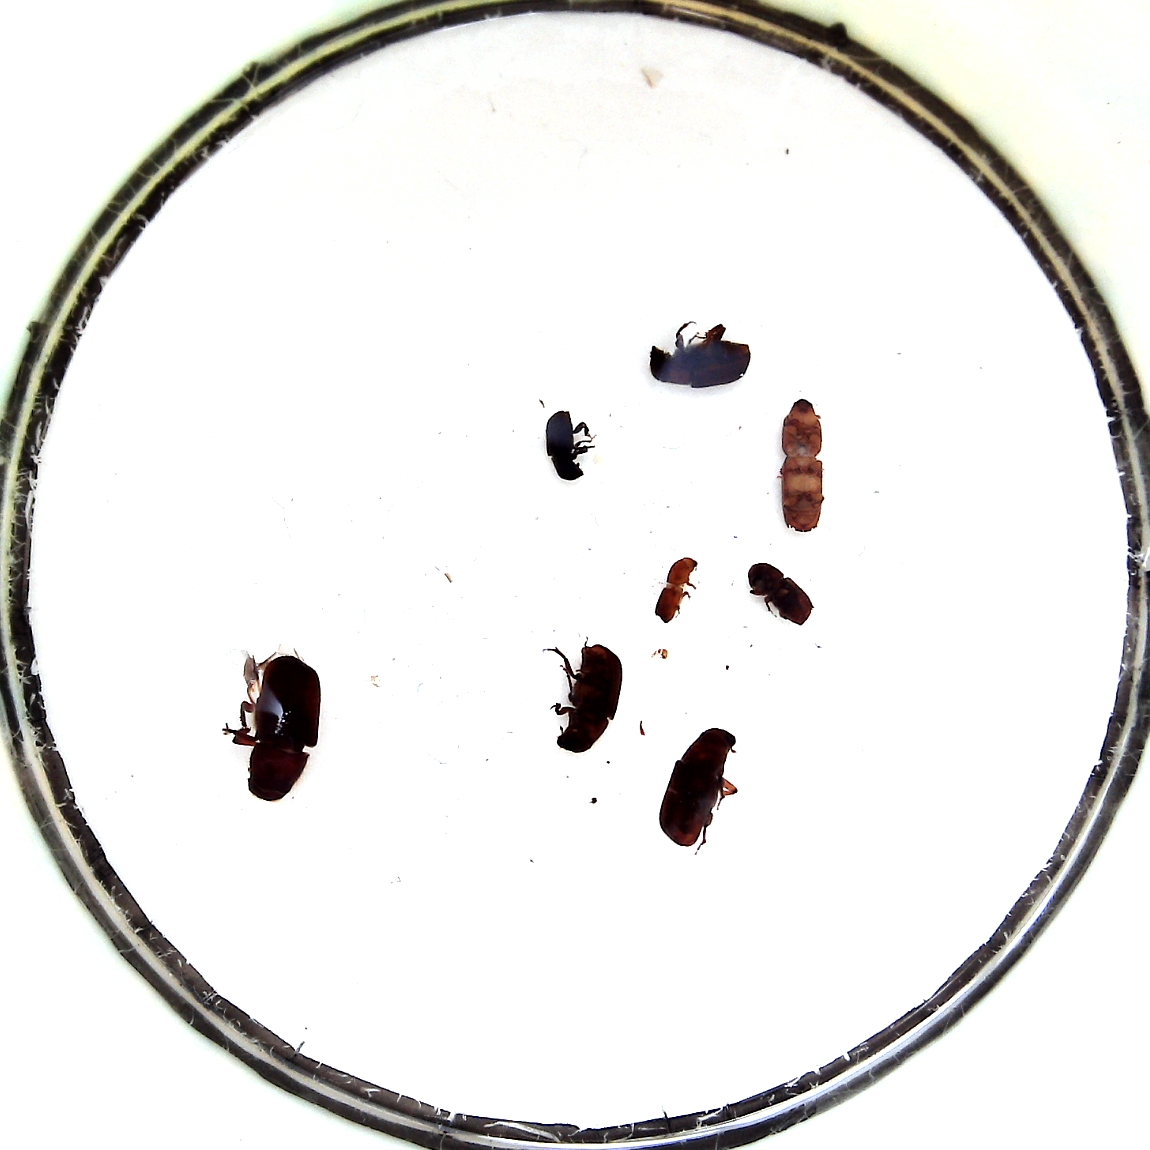Boerner: (778, 398, 824, 536)
Leconte: (238, 654, 322, 802), (653, 726, 737, 849), (551, 643, 623, 756), (648, 323, 751, 388)
Linnaeus: (748, 557, 819, 628)
acuminatus: (655, 551, 700, 624)
armandi: (541, 407, 592, 482)
